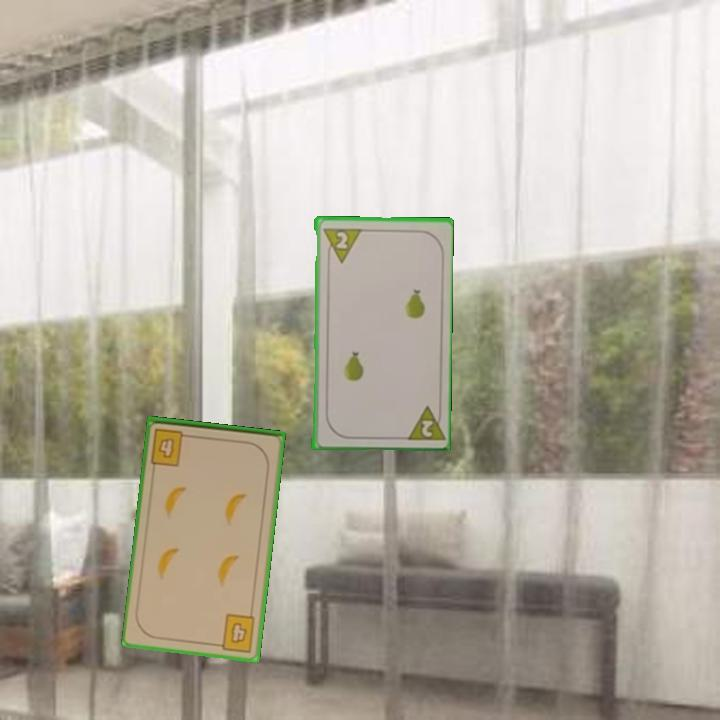2p: (401, 401, 445, 443), (319, 224, 362, 265)
4b: (212, 610, 258, 655), (147, 425, 194, 469)
